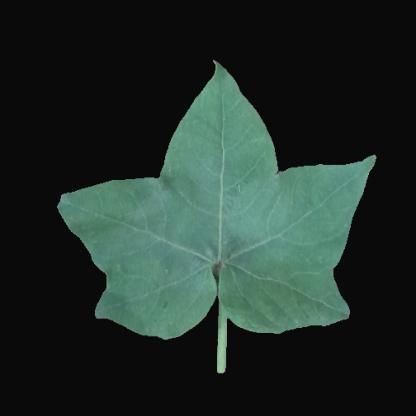healthy: (104, 188, 208, 313), (227, 180, 335, 300), (175, 129, 270, 175)
